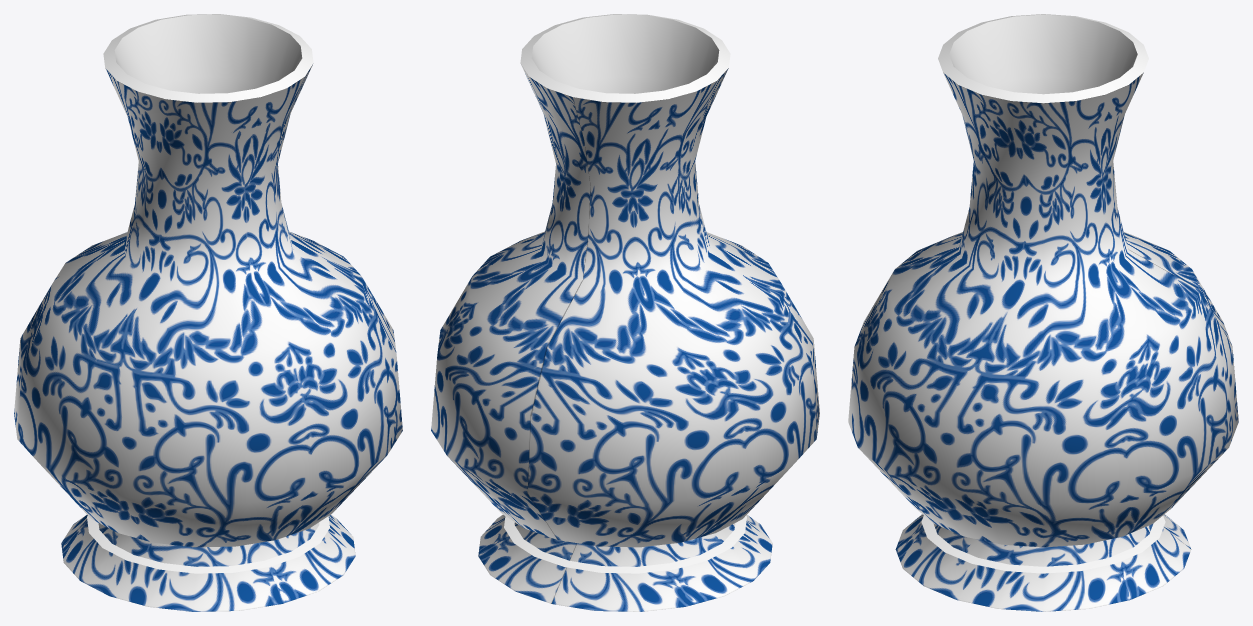
Rendered from chinese_pottery_vase.glb.
The picture shows the model from 3 angles, left to right: view 1: azimuth 30°, elevation 25°; view 2: azimuth 150°, elevation 25°; view 3: azimuth 270°, elevation 25°; orthographic projection.
Parts seen in each view (by area): view 1: pCylinder2; view 2: pCylinder2; view 3: pCylinder2.
Boxes of the visible parts, <box> form: pCylinder2: <box>14,14,402,611</box>; pCylinder2: <box>431,14,819,611</box>; pCylinder2: <box>848,14,1238,611</box>.
Bounding box in the file's own units: 64.4 × 90.06 × 64.4.
Materials: 2 (1 with a texture image).
